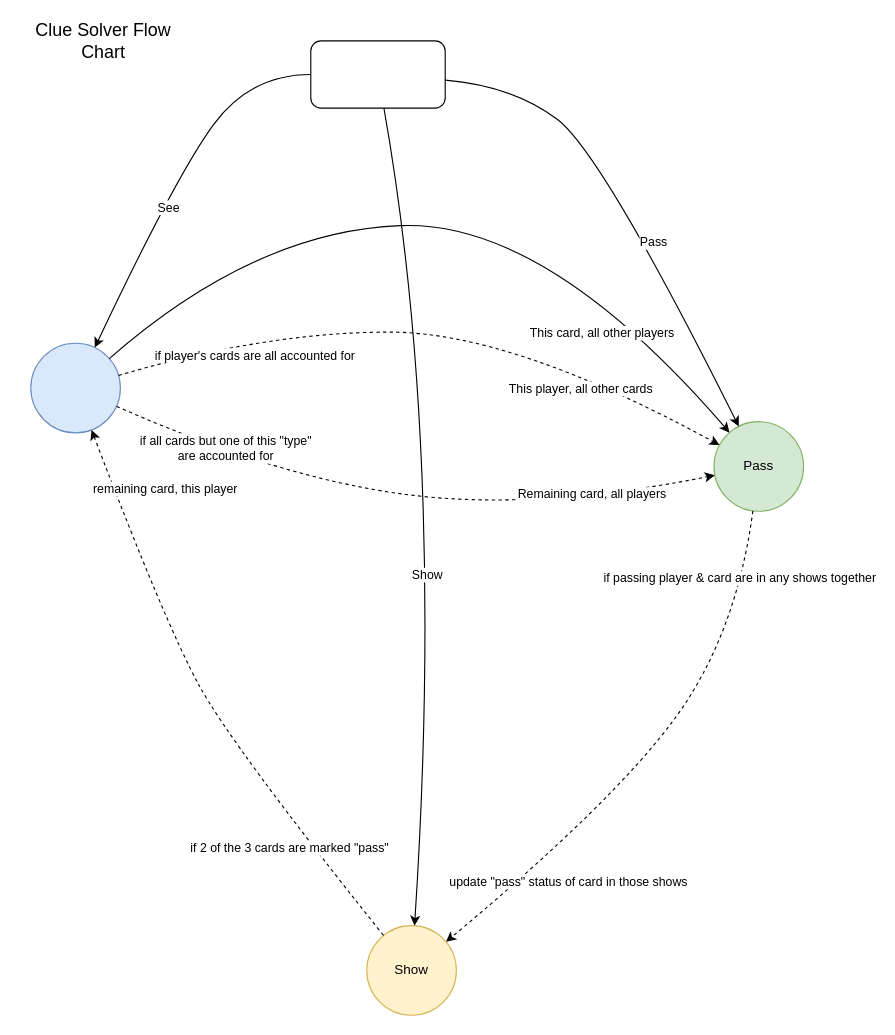
This 895x1035 diagram has some shape labels left out. The shapes that lost their labels are listed below. From the top down, each one's centre as x and y in pixels, then its label:
At point 377,74: "Game Event".
At point 75,387: "Have".
